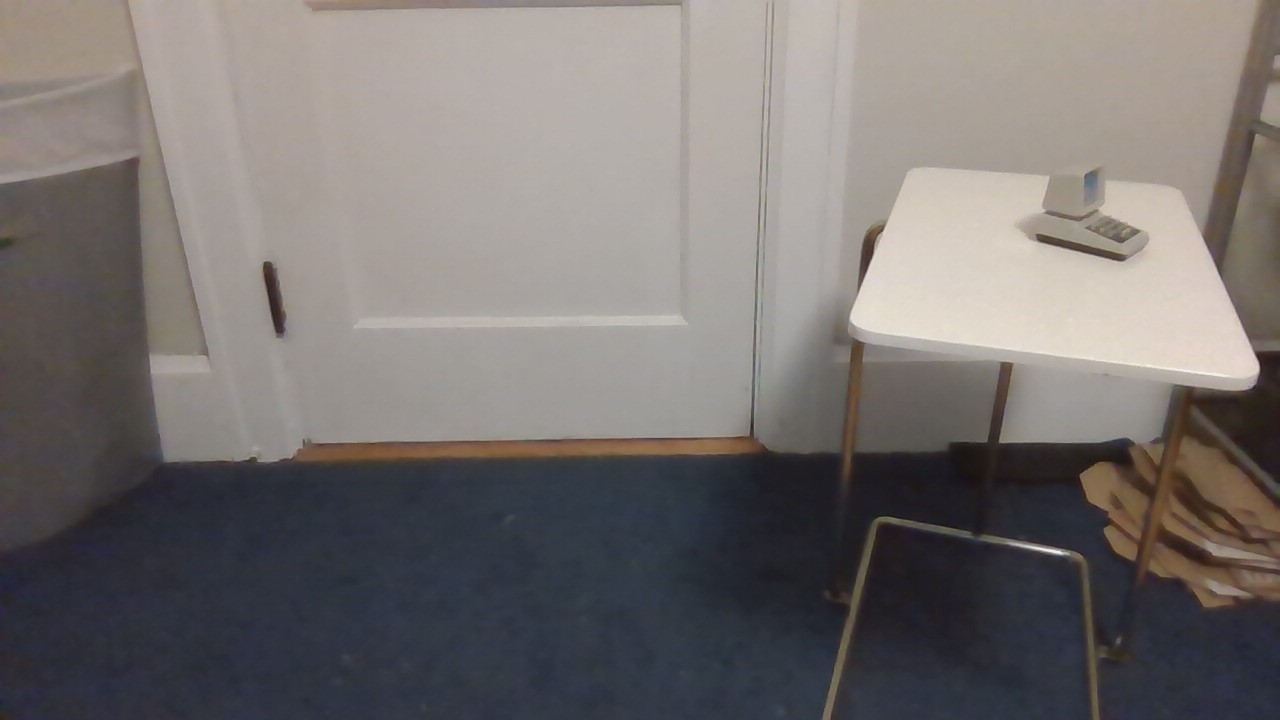Toy: (1034, 150, 1158, 269)
